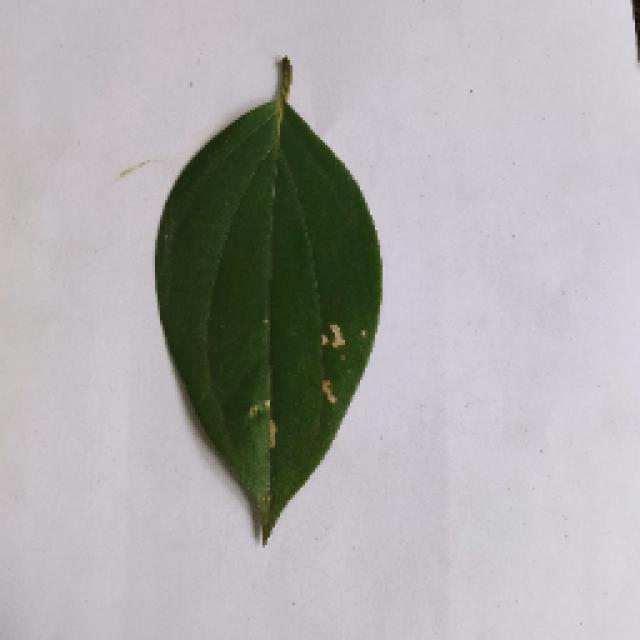pollu-disease: (148, 62, 382, 548)
